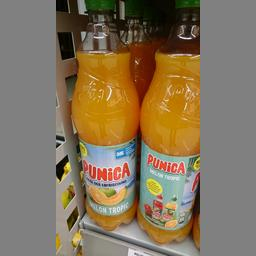juice: (70, 2, 140, 228), (135, 2, 198, 244)
